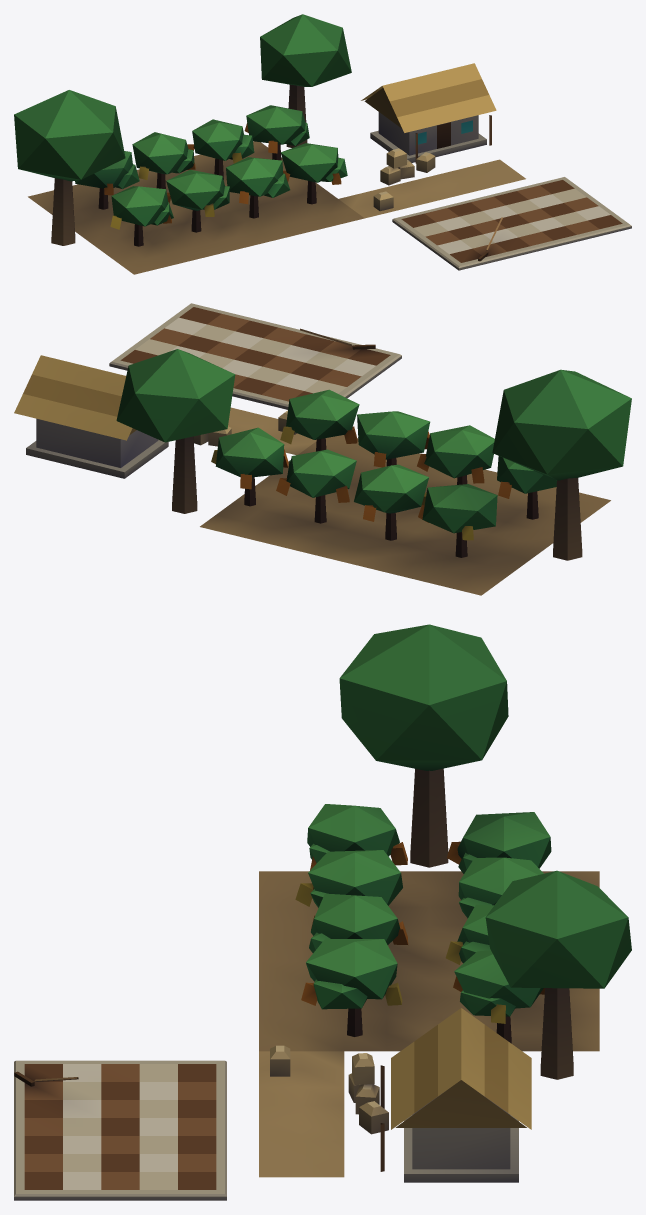
Rendered from cacao_paria.glb.
3 renders of one model, top to bottom at view 1: azimuth 30°, elevation 25°; view 2: azimuth 150°, elevation 25°; view 3: azimuth 270°, elevation 25°, orthographic. The views are drawn at different scales.
Parts seen in each view (by area): view 1: soil, cacao_trees, shade_trees, patio, hut, sacks; view 2: cacao_trees, shade_trees, soil, patio, hut, sacks; view 3: shade_trees, soil, cacao_trees, patio, hut, sacks.
Part boxes in pixels (x1,y1,x2,y2): soil: [28, 141, 525, 274]; cacao_trees: [75, 105, 347, 246]; shade_trees: [14, 14, 351, 245]; patio: [392, 177, 631, 270]; hut: [361, 63, 496, 163]; sacks: [373, 148, 435, 211]; cacao_trees: [211, 389, 556, 557]; shade_trees: [116, 349, 631, 560]; soil: [200, 407, 610, 595]; patio: [109, 303, 401, 409]; hut: [14, 355, 168, 478]; sacks: [193, 410, 296, 446]; shade_trees: [339, 624, 631, 1079]; soil: [259, 871, 599, 1177]; cacao_trees: [295, 804, 551, 1043]; patio: [14, 1060, 226, 1200]; hut: [380, 1008, 531, 1182]; sacks: [270, 1045, 388, 1134].
Bounding box in the file's own units: 39.84 × 11.73 × 27.56.
